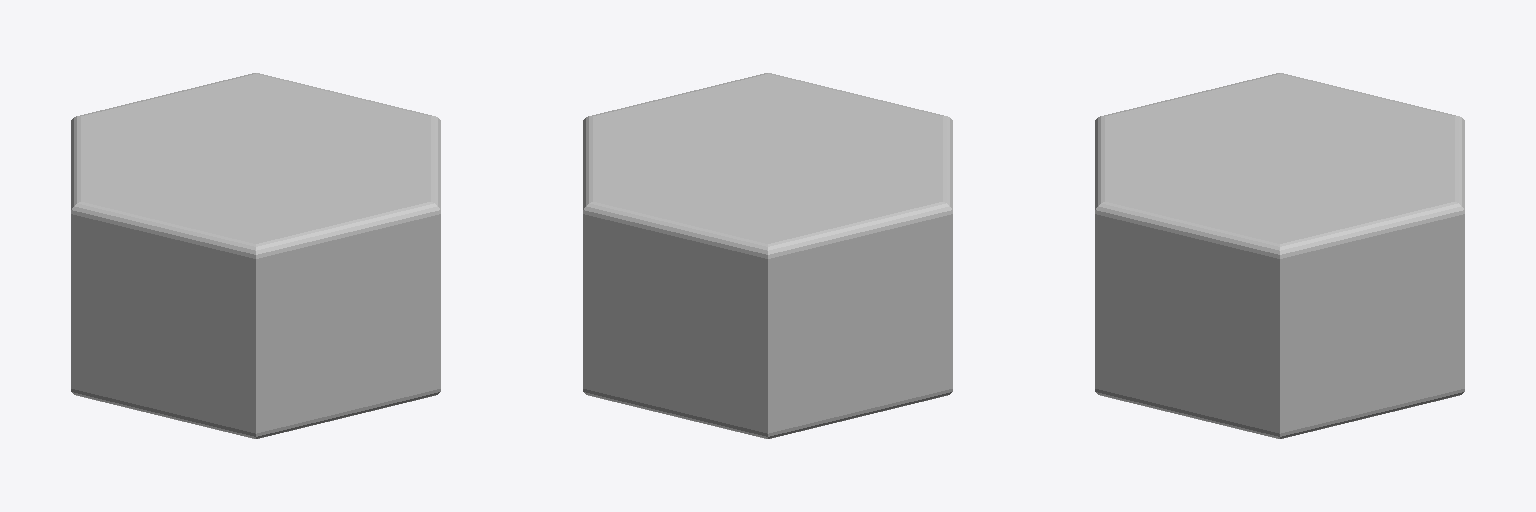
The model's file is Hex_beveled.obj.
3 views of the same model, side by side, from view 1: azimuth 30°, elevation 25°; view 2: azimuth 150°, elevation 25°; view 3: azimuth 270°, elevation 25° (orthographic).
Parts seen in each view (by area): view 1: Plane; view 2: Plane; view 3: Plane.
Part boxes in pixels (x1,y1,x2,y2): Plane: (71,73,440,438); Plane: (583,73,952,438); Plane: (1095,73,1464,438).
Bounding box in the file's own units: 2 × 1 × 1.73.